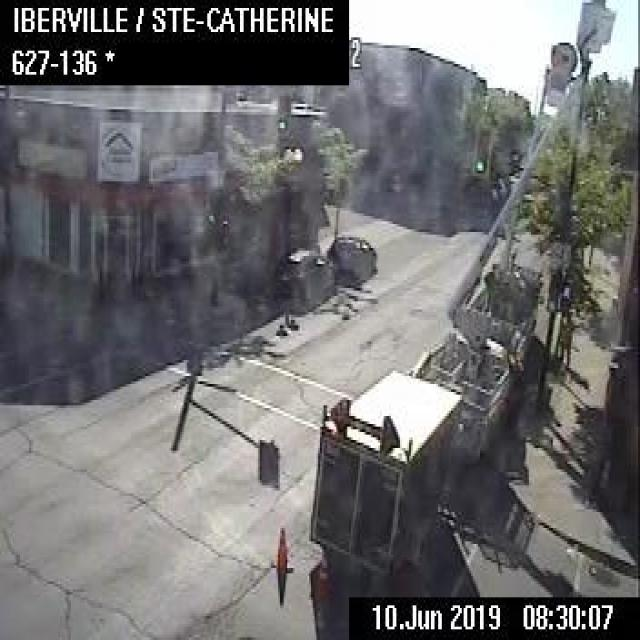construction: (314, 552, 330, 597), (275, 528, 287, 568)
pedestrian: (505, 347, 524, 427), (556, 307, 572, 366)
vehicle: (306, 0, 616, 576), (274, 248, 332, 304), (326, 233, 376, 282)
